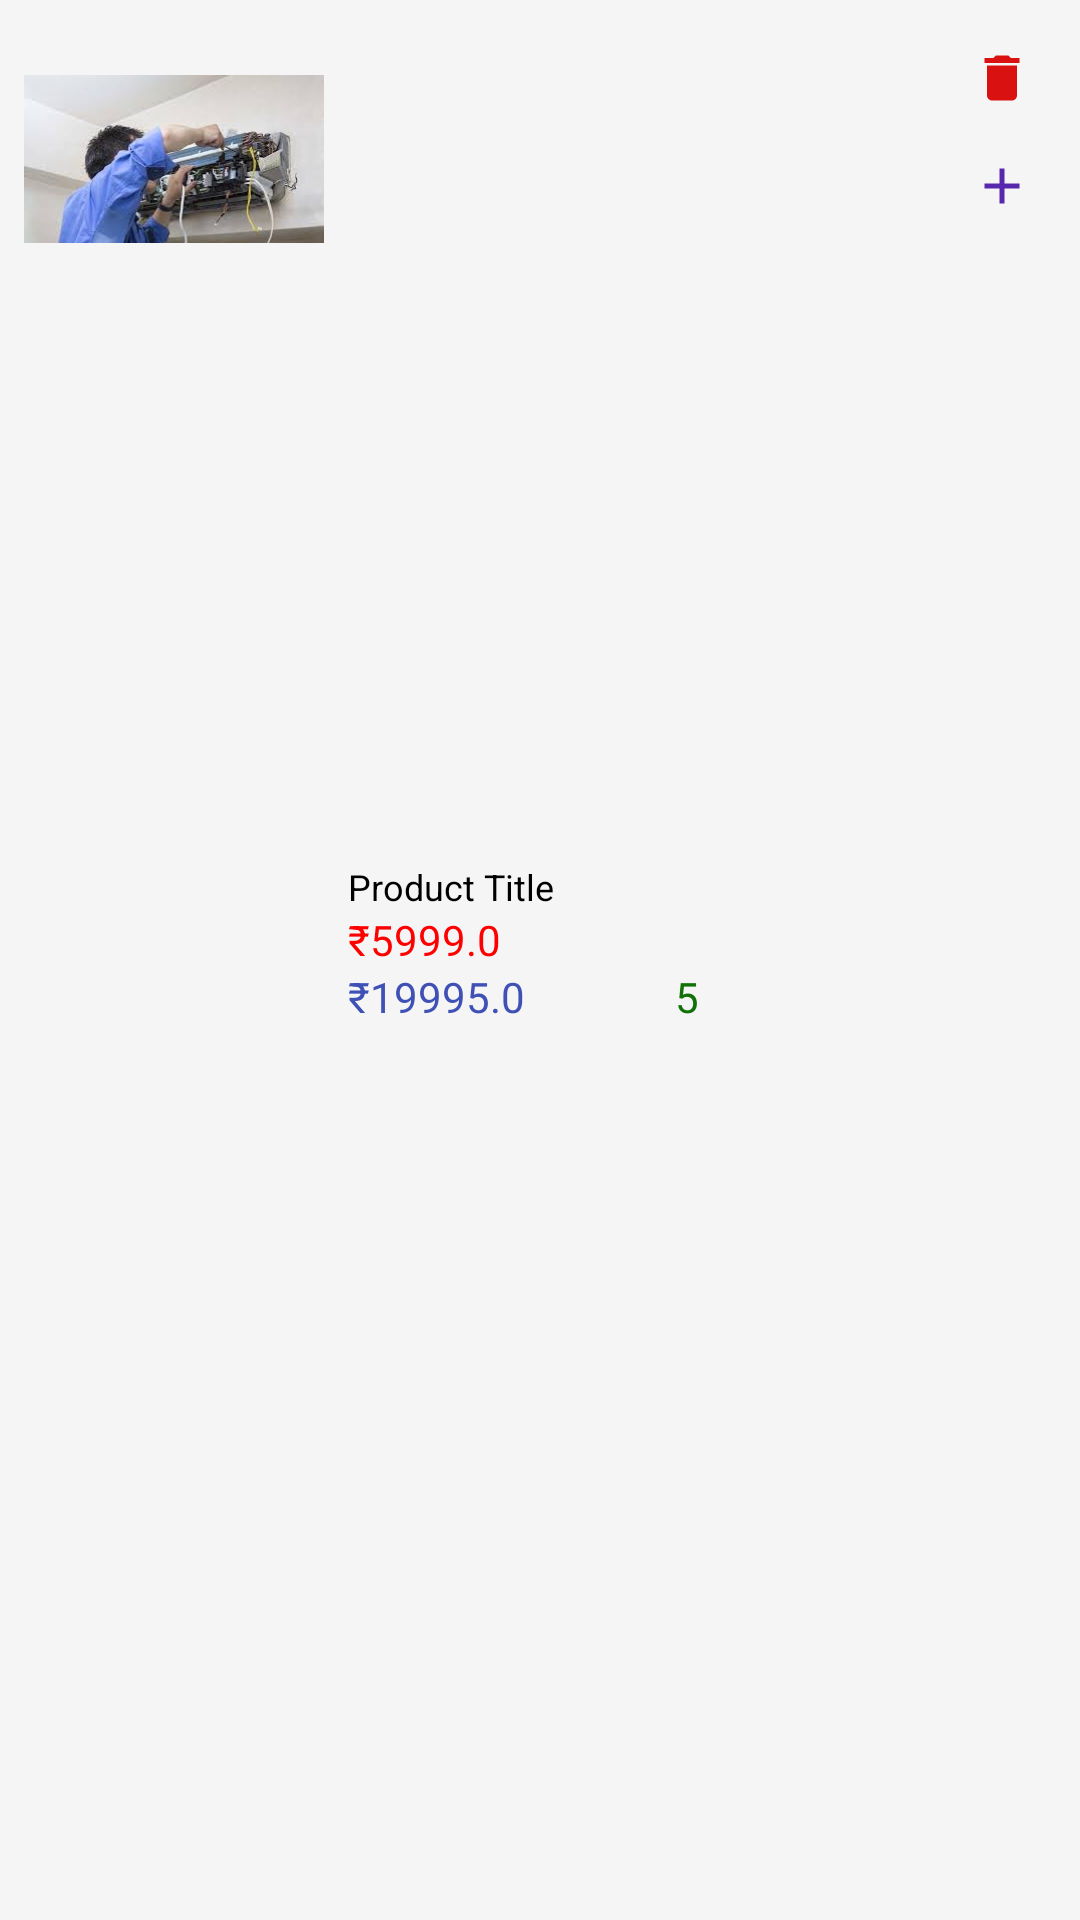

Screen size 1080×1920. Icon name, then its center in pixels as point (x, y):
acrepairing: point (174, 159)
add: point (1002, 186)
delete: point (1002, 78)
